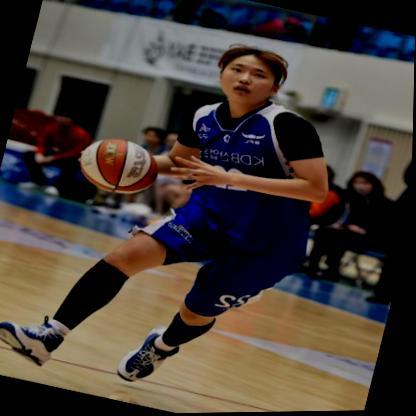basketball: (74, 131, 165, 202)
